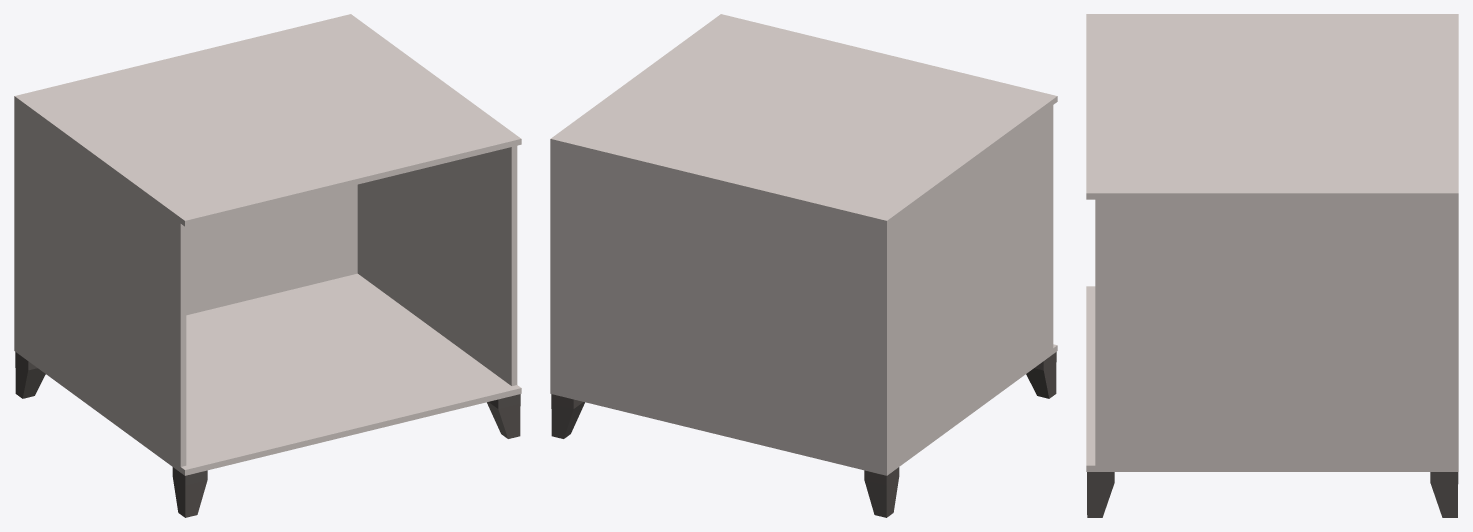
The model's file is Cupboard_16_01.fbx.
3 renders of one model, left to right at view 1: azimuth 30°, elevation 25°; view 2: azimuth 150°, elevation 25°; view 3: azimuth 270°, elevation 25°, orthographic. The views are drawn at different scales.
Parts seen in each view (by area): view 1: Cupboard_16_01; view 2: Cupboard_16_01; view 3: Cupboard_16_01.
Part boxes in pixels (x1,y1,x2,y2): Cupboard_16_01: (14,14,521,517); Cupboard_16_01: (550,14,1057,517); Cupboard_16_01: (1086,14,1458,517).
Size of the model in its own units: 55.6 by 46.99 by 48.81.
